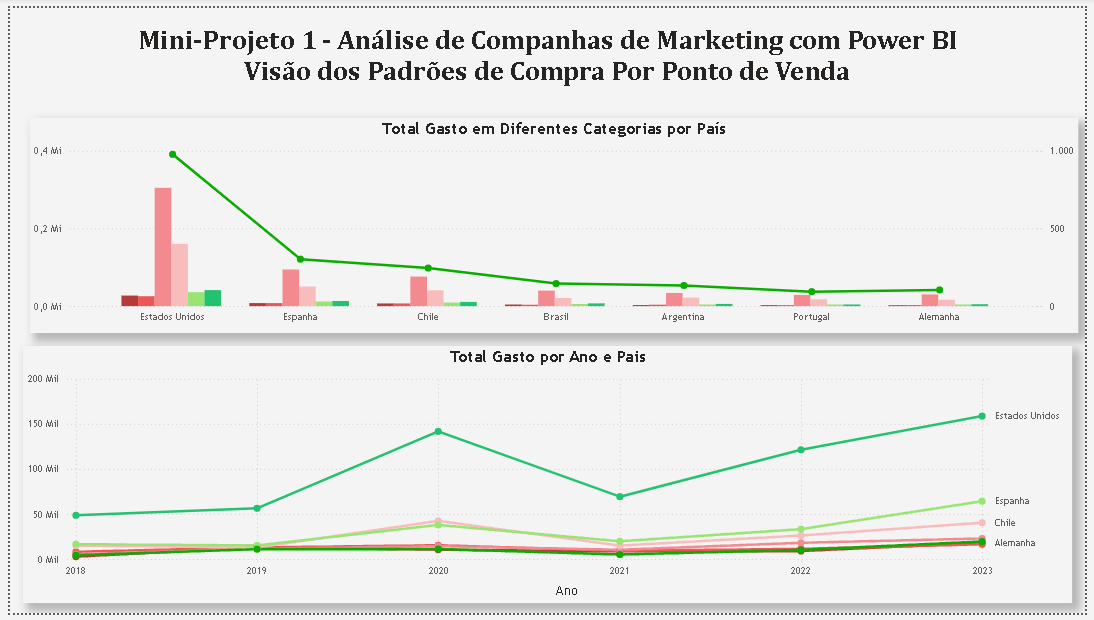

What the dashboard file says about the page in this screenshot:
{"tool":"powerbi","page":{"name":"Visão de Venda","canvas":[1280,720],"ordinal":3},"visuals":[{"type":"lineClusteredColumnComboChart","title":"Total Gasto em Diferentes Categorias por País","fields":{"Category":["DadosMarketing.Pais"],"Y":["Sum(DadosMarketing.Gasto com Alimentos)","Sum(DadosMarketing.Gasto com Brinquedos)","Sum(DadosMarketing.Gasto com Eletronicos)","Sum(DadosMarketing.Gasto com Moveis)","Sum(DadosMarketing.Gasto com Utilidades)","Sum(DadosMarketing.Gasto com Vestuario)"],"Y2":["CountNonNull(DadosMarketing.ID)"]},"box":[23.8,131,1247.6,256],"z":0},{"type":"lineChart","title":"Total Gasto por Ano e Pais","fields":{"Y":["DadosMarketing.TotalGasto"],"Series":["DadosMarketing.Pais"],"Category":["DadosMarketing.Data Cadastro.Variation.Hierarquia de datas.Ano"]},"box":[15.5,402.4,1248.8,306],"z":1},{"type":"textbox","box":[8.3,14.3,1263.1,107.1],"z":2}]}

Visuals, with their boxes in screenshot pixels (x1, y1, x2, y2), scaled from the page's 1280x720 canvas onto the 1094x620 screenshot:
"Total Gasto em Diferentes Categorias por País" lineClusteredColumnComboChart: 20:113:1087:333
"Total Gasto por Ano e Pais" lineChart: 13:347:1081:610
textbox: 7:12:1087:105
